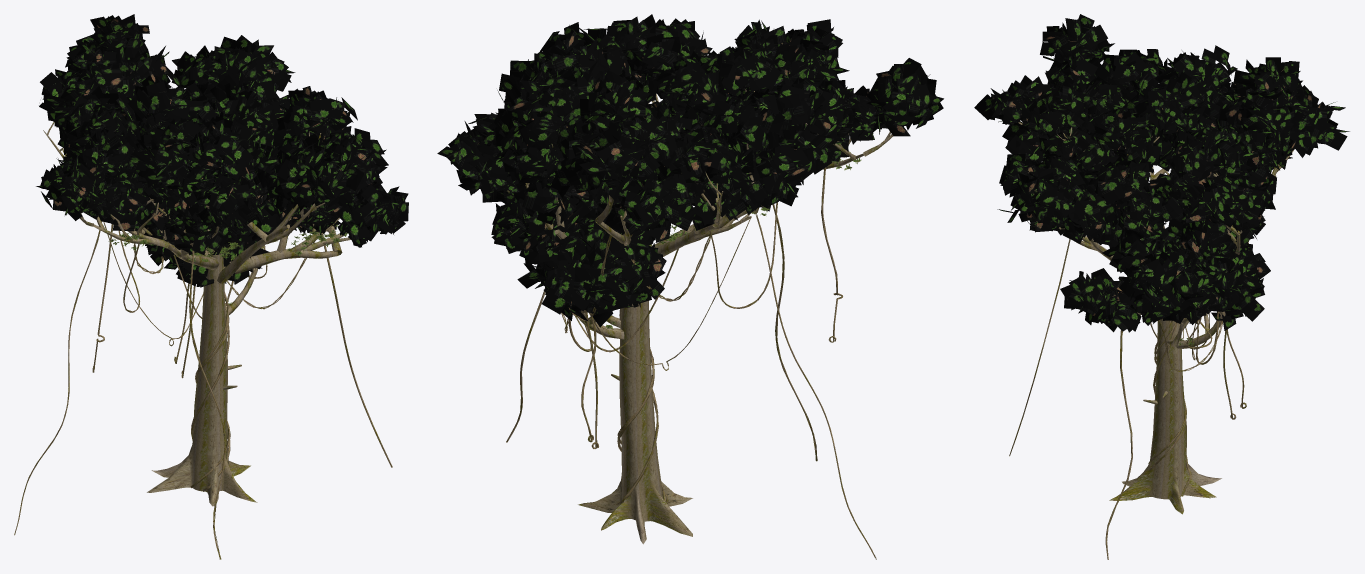
Rendered from arbre_geant.glb.
3 renders of one model, left to right at view 1: azimuth 30°, elevation 25°; view 2: azimuth 150°, elevation 25°; view 3: azimuth 270°, elevation 25°, orthographic. The views are drawn at different scales.
Visible parts, largest first — view 1: ArbreGeant_Feuillage, ArbreGeant_Bois; view 2: ArbreGeant_Feuillage, ArbreGeant_Bois; view 3: ArbreGeant_Feuillage, ArbreGeant_Bois.
Part boxes in pixels (x1,y1,x2,y2): ArbreGeant_Feuillage: (36, 14, 408, 287); ArbreGeant_Bois: (14, 122, 392, 559); ArbreGeant_Feuillage: (437, 14, 943, 327); ArbreGeant_Bois: (506, 89, 893, 559); ArbreGeant_Feuillage: (974, 14, 1349, 332); ArbreGeant_Bois: (1009, 122, 1294, 559).
Bounding box in the file's own units: 40.84 × 44.35 × 36.13.
4 materials, 4 textured.
